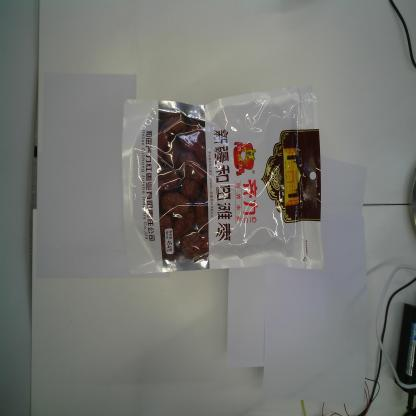Dried Food: (119, 86, 325, 278)
